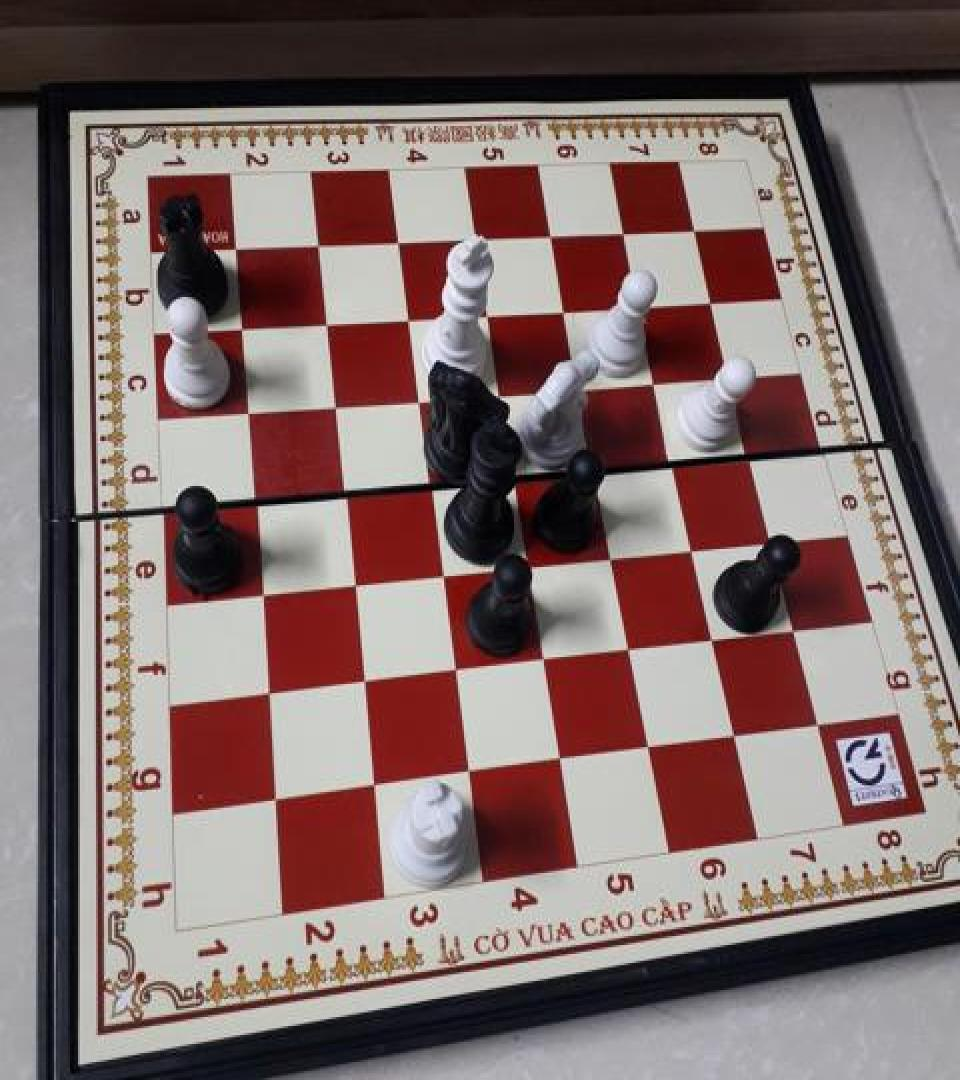xcorner: (441, 652, 473, 689), (800, 705, 832, 742), (546, 742, 578, 779), (361, 768, 393, 805), (681, 212, 713, 248), (610, 215, 642, 251), (536, 217, 568, 253), (461, 220, 493, 256), (383, 223, 415, 259), (303, 226, 335, 262), (221, 230, 253, 266), (698, 284, 730, 320), (625, 287, 657, 323), (550, 292, 582, 328), (473, 296, 505, 332), (394, 299, 426, 335), (311, 304, 343, 340), (227, 308, 259, 344), (716, 359, 748, 395), (642, 364, 674, 400), (565, 369, 597, 405), (486, 374, 518, 410), (405, 380, 437, 416), (320, 387, 352, 423), (233, 392, 265, 428), (736, 439, 768, 475), (581, 452, 613, 488), (500, 459, 532, 495), (416, 466, 448, 502), (329, 474, 361, 510), (240, 482, 272, 518), (756, 523, 788, 559), (678, 531, 710, 567), (598, 539, 630, 575), (514, 548, 546, 584), (428, 557, 460, 593), (339, 566, 371, 602), (247, 576, 279, 612), (777, 612, 809, 648), (698, 621, 730, 657), (615, 631, 647, 667), (530, 642, 562, 678), (350, 665, 382, 701), (255, 676, 287, 712), (718, 718, 750, 754), (634, 730, 666, 766), (455, 755, 487, 791), (263, 783, 295, 819), (659, 446, 691, 481)
